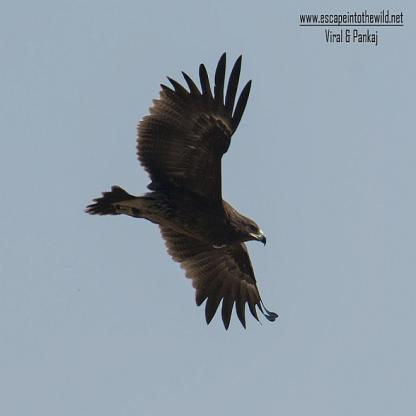Burung: (82, 53, 279, 329)
